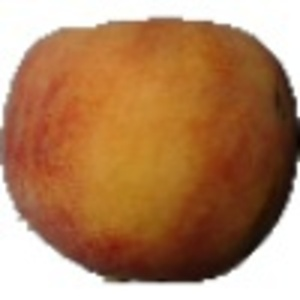pêssego: (1, 15, 300, 286)
